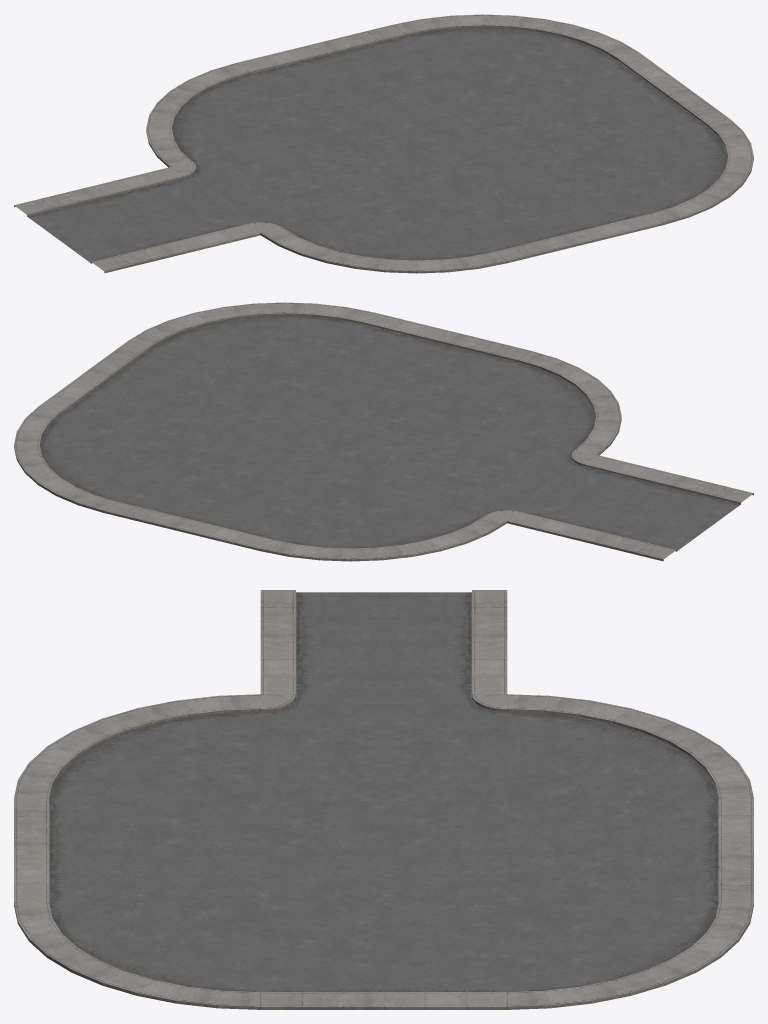
The model's file is Suburbs_road8.fbx.
The picture shows the model from 3 angles, top to bottom: view 1: azimuth 30°, elevation 25°; view 2: azimuth 150°, elevation 25°; view 3: azimuth 270°, elevation 25°; orthographic projection. The views are drawn at different scales.
Parts seen in each view (by area): view 1: Suburbs_road8; view 2: Suburbs_road8; view 3: Suburbs_road8.
Part boxes in pixels (x1=…): Suburbs_road8: x1=14, y1=14, x2=753, y2=273; Suburbs_road8: x1=14, y1=302, x2=753, y2=561; Suburbs_road8: x1=14, y1=590, x2=753, y2=1009.
Bounding box in the file's own units: 5600 × 18.51 × 4200.
